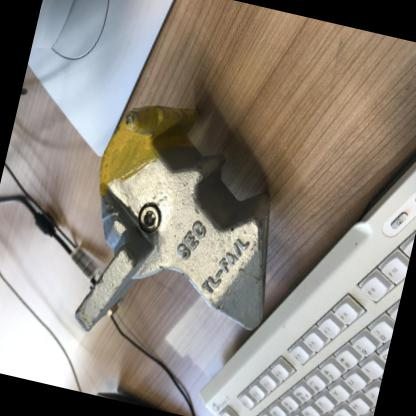Twistlock: (54, 83, 310, 374)
